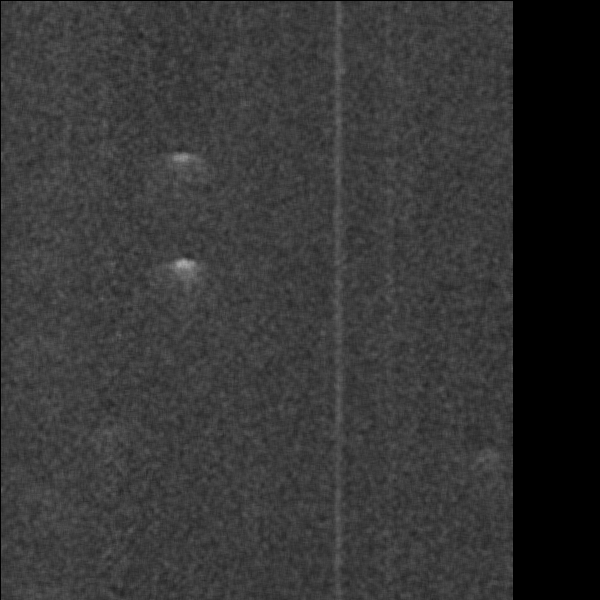spark: (166, 255, 207, 293), (161, 148, 200, 182), (472, 446, 492, 469)
